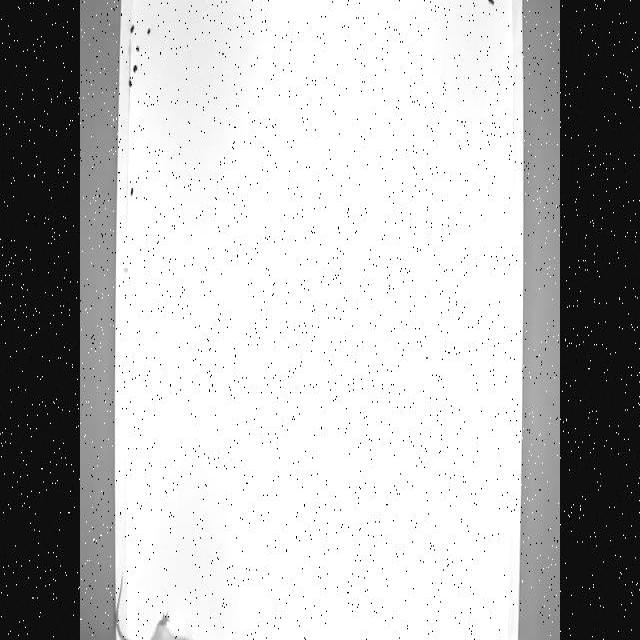rat: (112, 570, 208, 640)
